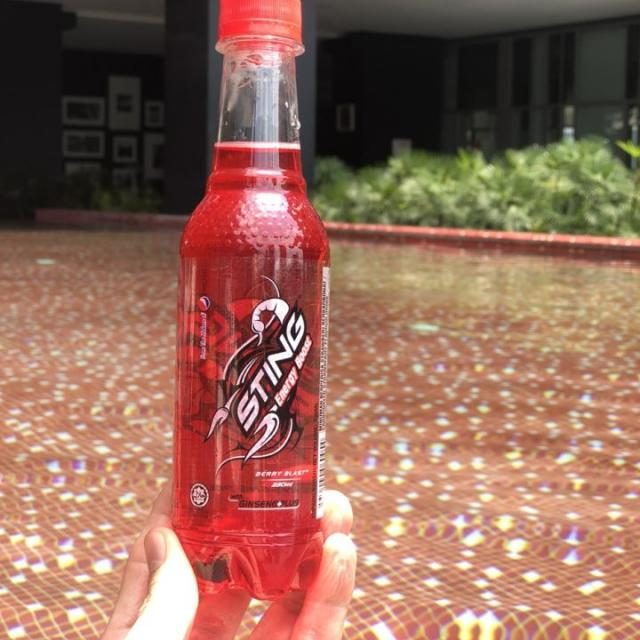Soda: (141, 0, 354, 640)
